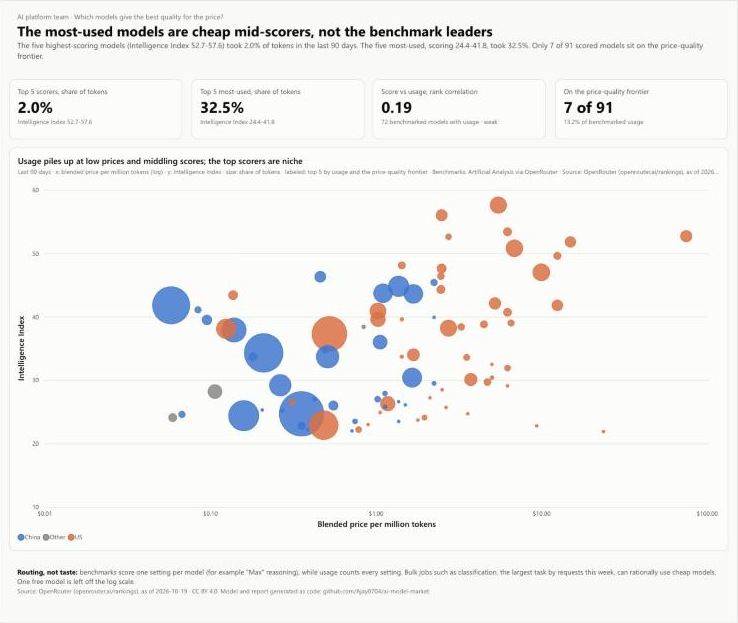

The dashboard page shown, as its layout file describes it:
{"tool":"tableau","page":{"name":"3 · AI platform","canvas":[1400,950],"ordinal":2},"visuals":[{"type":"text","box":[0,0,1400,123.5]},{"type":"text","box":[0,123.5,350,104.5]},{"type":"text","box":[350,123.5,350,104.5]},{"type":"text","box":[700,123.5,350,104.5]},{"type":"text","box":[1050,123.5,350,104.5]},{"type":"worksheet","title":"Quality vs price","mark":"Circle","rows":["Intelligence Index"],"cols":["Price per M"],"box":[0,228,1400,646]},{"type":"text","box":[0,874,1400,76]}]}

Visuals, with their boxes on the page's 1400x950 design canvas (x1, y1, x2, y2). These are canvas units, not pixel positions in the 738x623 screenshot, which may show the page scaled, cropped or inside an application window:
text: x1=0 y1=0 x2=1400 y2=124
text: x1=0 y1=124 x2=350 y2=228
text: x1=350 y1=124 x2=700 y2=228
text: x1=700 y1=124 x2=1050 y2=228
text: x1=1050 y1=124 x2=1400 y2=228
"Quality vs price" worksheet (Circle marks): x1=0 y1=228 x2=1400 y2=874
text: x1=0 y1=874 x2=1400 y2=950
